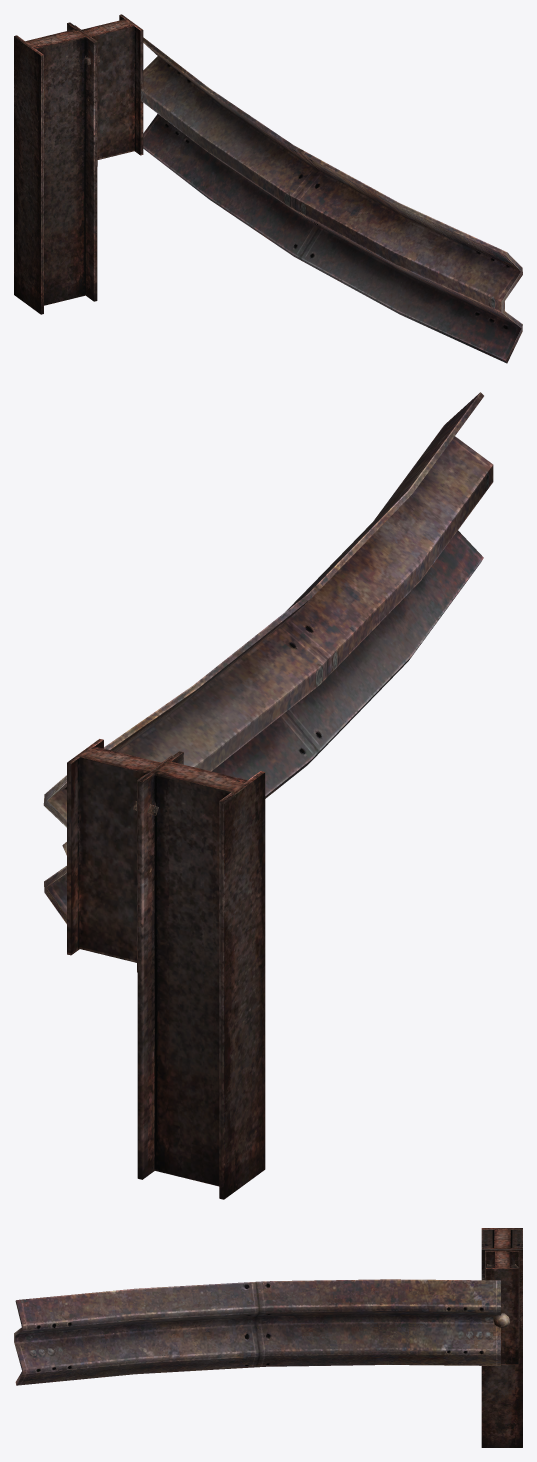
The model's file is GuardRai15OutWard.FBX.
3 renders of one model, top to bottom at view 1: azimuth 30°, elevation 25°; view 2: azimuth 150°, elevation 25°; view 3: azimuth 270°, elevation 25°, orthographic. The views are drawn at different scales.
Visible parts, largest first — view 1: GR_15outward:0; view 2: GR_15outward:0; view 3: GR_15outward:0.
Part boxes in pixels (x1,y1,x2,y2): GR_15outward:0: [14, 14, 522, 363]; GR_15outward:0: [43, 392, 493, 1199]; GR_15outward:0: [14, 1228, 522, 1447].
Bounding box in the file's own units: 0.7923 × 1.07 × 2.49.
